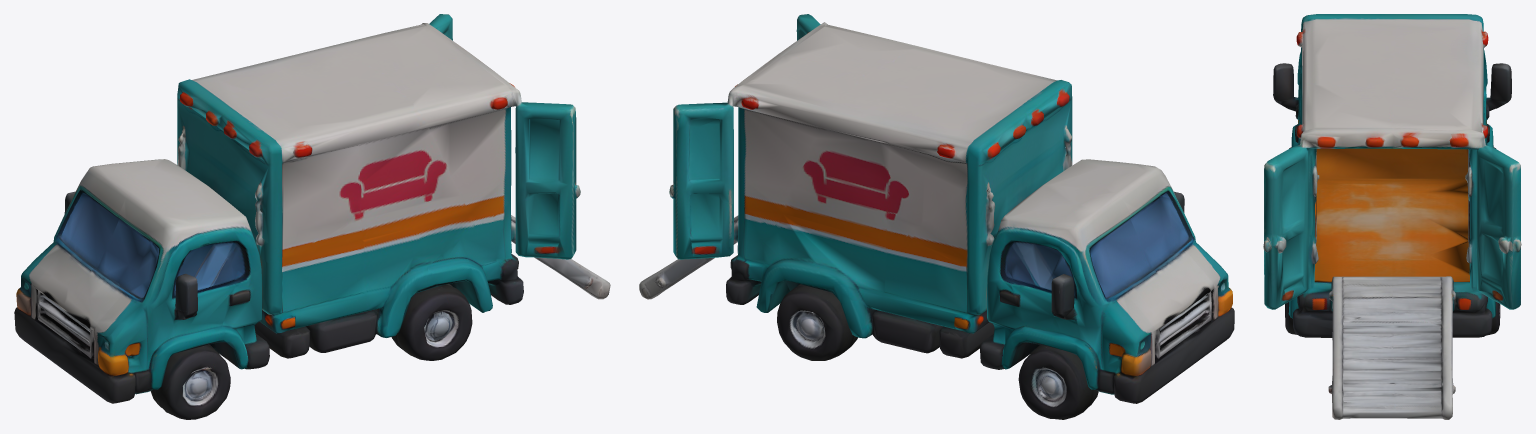
File: truck.glb
3 renders of one model, left to right at view 1: azimuth 30°, elevation 25°; view 2: azimuth 150°, elevation 25°; view 3: azimuth 270°, elevation 25°, orthographic. The views are drawn at different scales.
Parts seen in each view (by area): view 1: tripo_node_7f25582f-c313-43f4-9cfd-e350c7425360; view 2: tripo_node_7f25582f-c313-43f4-9cfd-e350c7425360; view 3: tripo_node_7f25582f-c313-43f4-9cfd-e350c7425360.
Part boxes in pixels (<box>): tripo_node_7f25582f-c313-43f4-9cfd-e350c7425360: <box>14,14,610,419</box>; tripo_node_7f25582f-c313-43f4-9cfd-e350c7425360: <box>639,14,1234,419</box>; tripo_node_7f25582f-c313-43f4-9cfd-e350c7425360: <box>1263,14,1521,419</box>.
Bounding box in the file's own units: 0.9998 × 0.4601 × 0.4449.
1 material, 1 textured.
